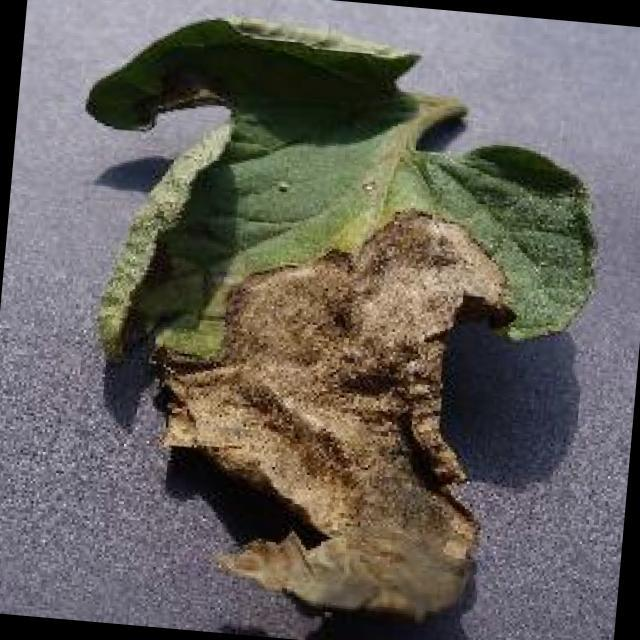Tomato late blight leaf: (44, 0, 619, 636)
